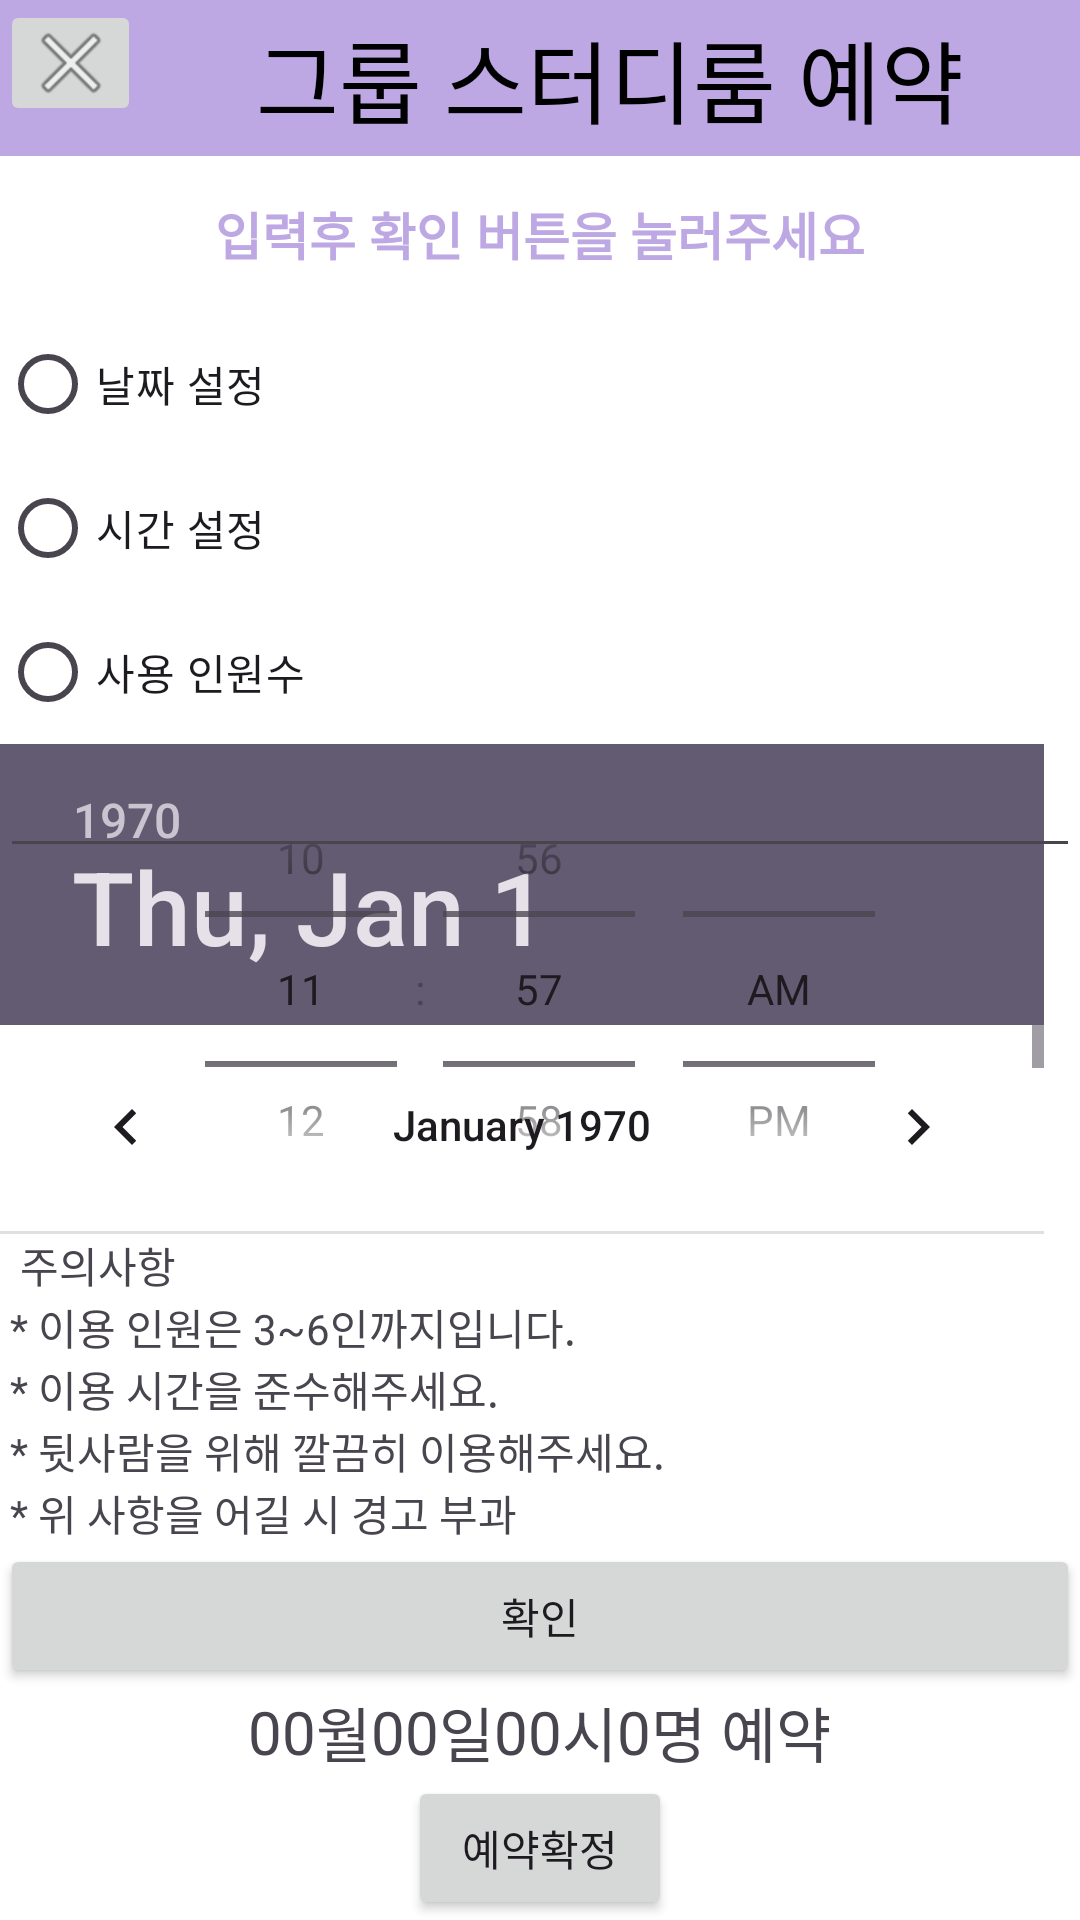

Locate icon controls on the screen. Image size 1080px x 1920px, boxes as (x1, y1, x2, y2).
close clear cancel: (12, 18, 129, 108)
